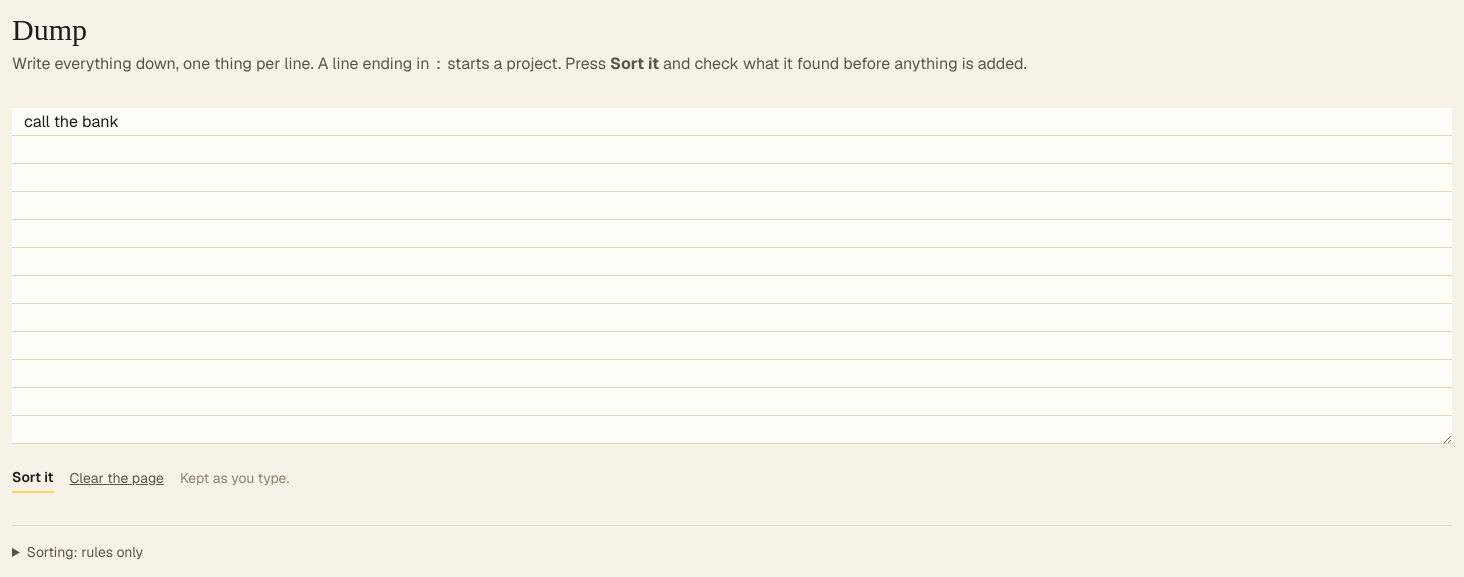
Test case: Dump screen › adds nothing when everything is unticked
Click the button "Sort it": (33, 478) [12,463,54,493]
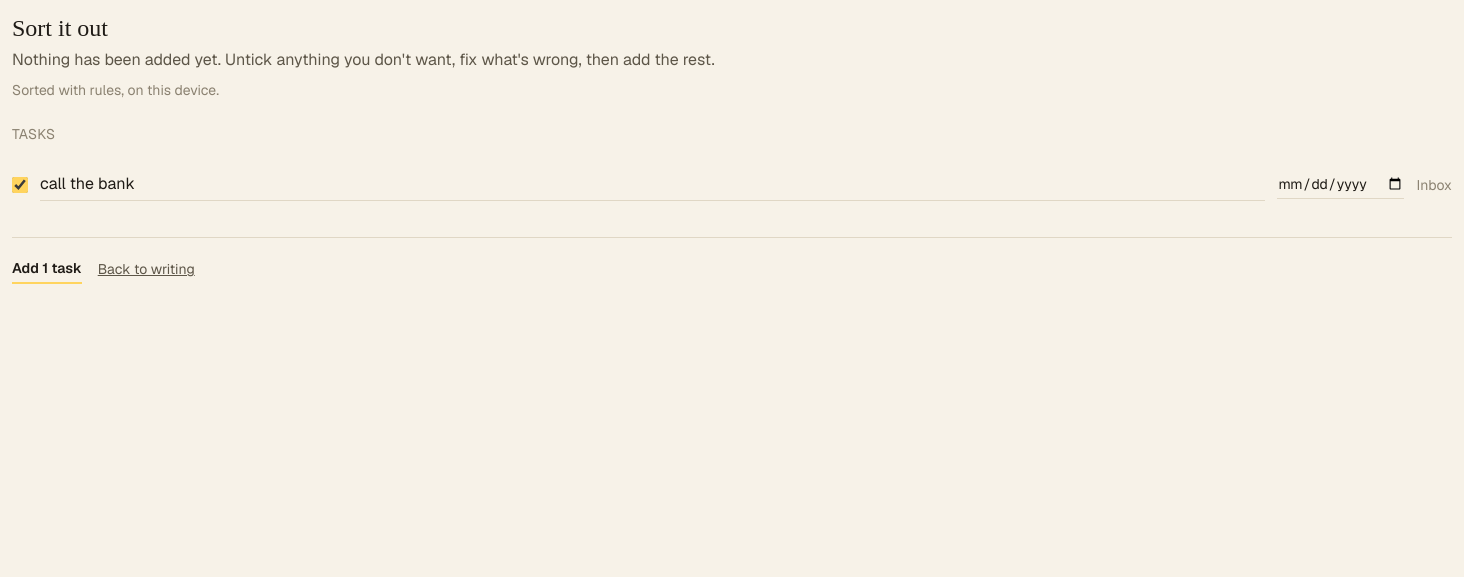
Now the heading "Sort it out" is shown, box [12,15,108,41]
Click the checkbox named "Keep task “call the bank”": (20, 184) [12,176,28,192]
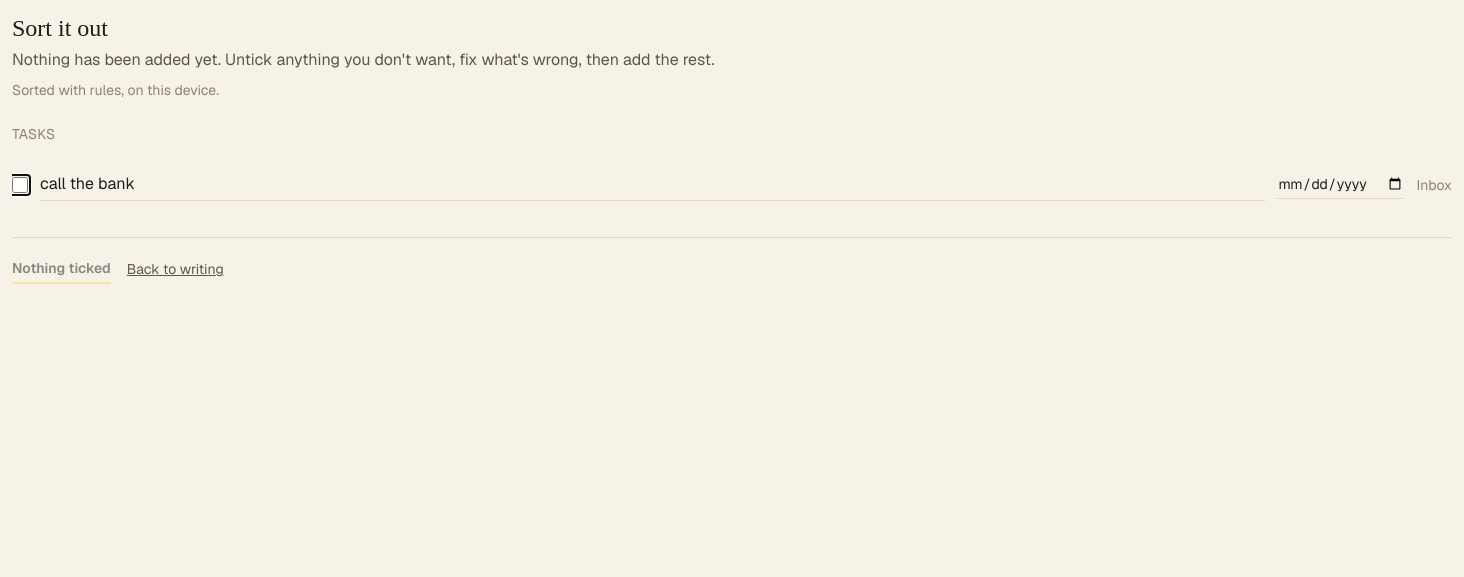
Now the button "Nothing ticked" is disabled, box [12,254,111,284]
